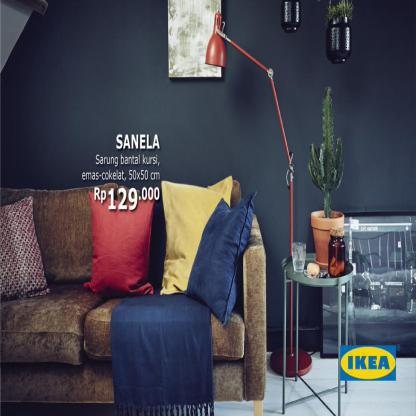bantal: (90, 191, 150, 293), (1, 199, 49, 299), (201, 201, 242, 314), (163, 181, 196, 293)
gelas: (289, 241, 308, 272)
lampu: (202, 11, 231, 70)
sova: (2, 177, 264, 416)
tanaman: (311, 96, 345, 263)
